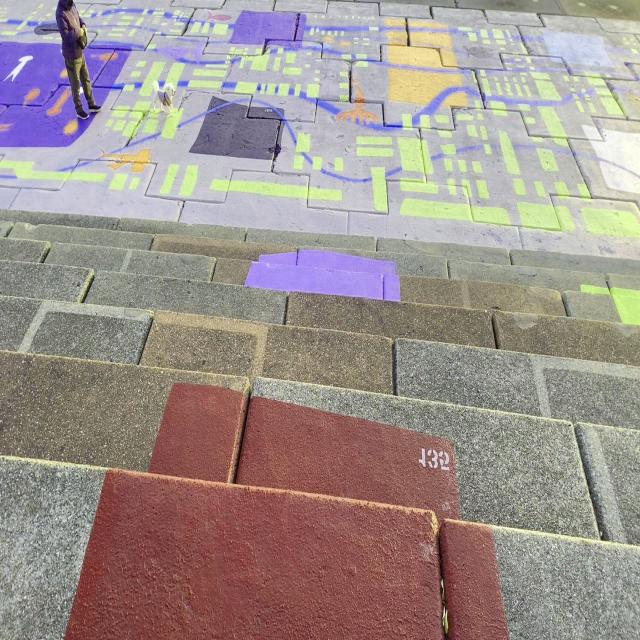Unleashed_Dog: (76, 24, 176, 118)
